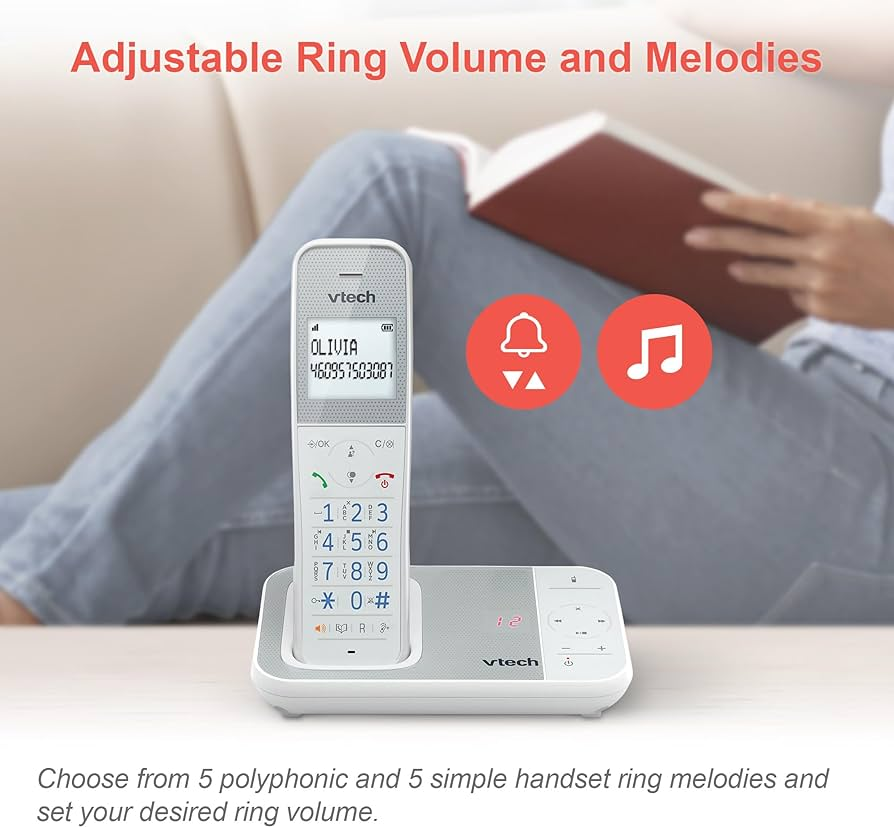telephone: (282, 233, 424, 675)
